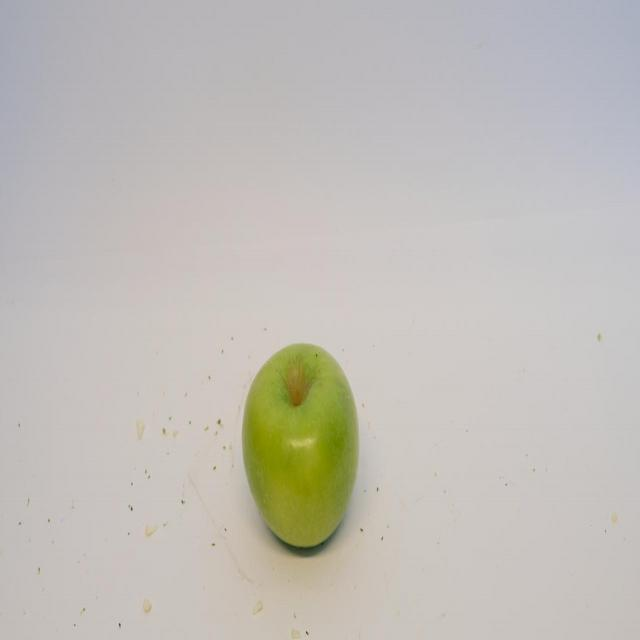apple: (242, 334, 361, 555)
